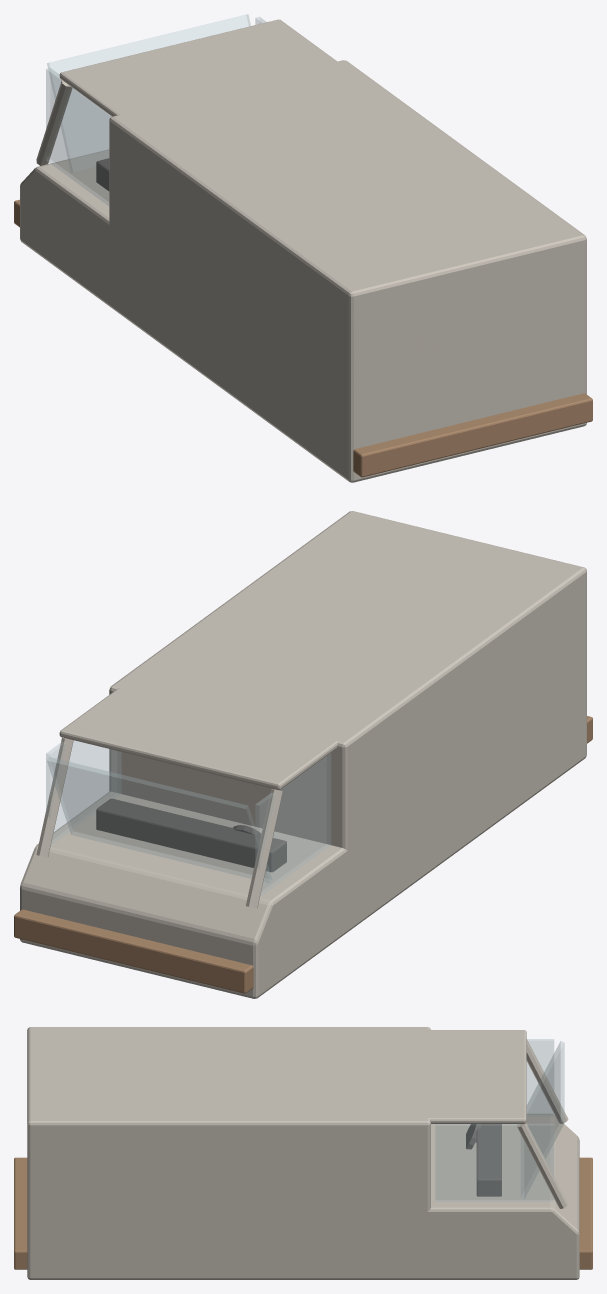
Rendered from van.glb.
3 views of the same model, one above another, from view 1: azimuth 30°, elevation 25°; view 2: azimuth 150°, elevation 25°; view 3: azimuth 270°, elevation 25° (orthographic). The views are drawn at different scales.
Parts seen in each view (by area): view 1: cargo, roof, body, bumper_r, ws_glass, side_glass_-1, a_pillar_-1; view 2: cargo, body, roof, ws_glass, bumper_f, side_glass_-1, dash, side_glass_1, a_pillar_-1, a_pillar_1; view 3: cargo, body, roof, side_glass_1, ws_glass, dash, bumper_f, bumper_r, side_glass_-1, a_pillar_1, a_pillar_-1.
Boxes of the visible parts, x1,y1,x2,y2 form: cargo: (109,60,586,482); roof: (59,19,337,117); body: (20,149,115,310); bumper_r: (353,393,592,477); ws_glass: (47,14,250,172); side_glass_-1: (46,68,111,205); a_pillar_-1: (36,80,72,165); cargo: (109,511,586,932); body: (20,792,353,998); roof: (59,686,337,789); ws_glass: (47,757,271,882); bumper_f: (14,909,253,993); side_glass_-1: (255,753,330,896); dash: (96,798,286,872); side_glass_1: (46,740,121,844); a_pillar_-1: (246,789,282,908); a_pillar_1: (36,737,73,857); cargo: (27,1027,430,1279); body: (418,1114,579,1279); roof: (422,1030,526,1123); side_glass_1: (435,1124,553,1201); ws_glass: (521,1041,564,1198); dash: (476,1124,501,1196); bumper_f: (579,1157,592,1269); bumper_r: (14,1157,27,1269); side_glass_-1: (527,1039,553,1116); a_pillar_1: (516,1123,568,1208); a_pillar_-1: (526,1039,568,1123).
Bounding box in the file's own units: 2.15 × 1.65 × 5.45.
